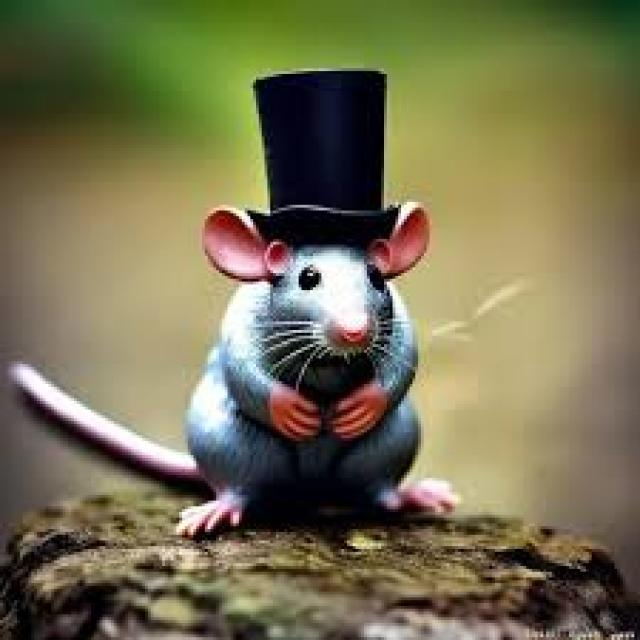rat: (173, 196, 458, 538)
